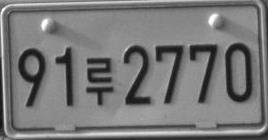0: (224, 42, 253, 103)
1: (53, 46, 80, 106)
2: (123, 44, 151, 104)
7: (189, 43, 218, 103), (155, 44, 183, 104)
9: (17, 47, 45, 106)
루: (85, 56, 114, 105)
